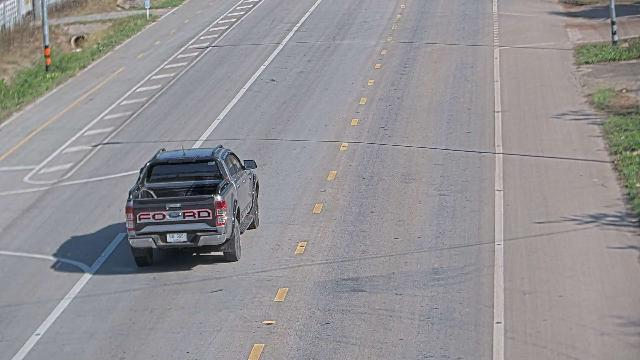pickup-truck: (124, 143, 260, 266)
